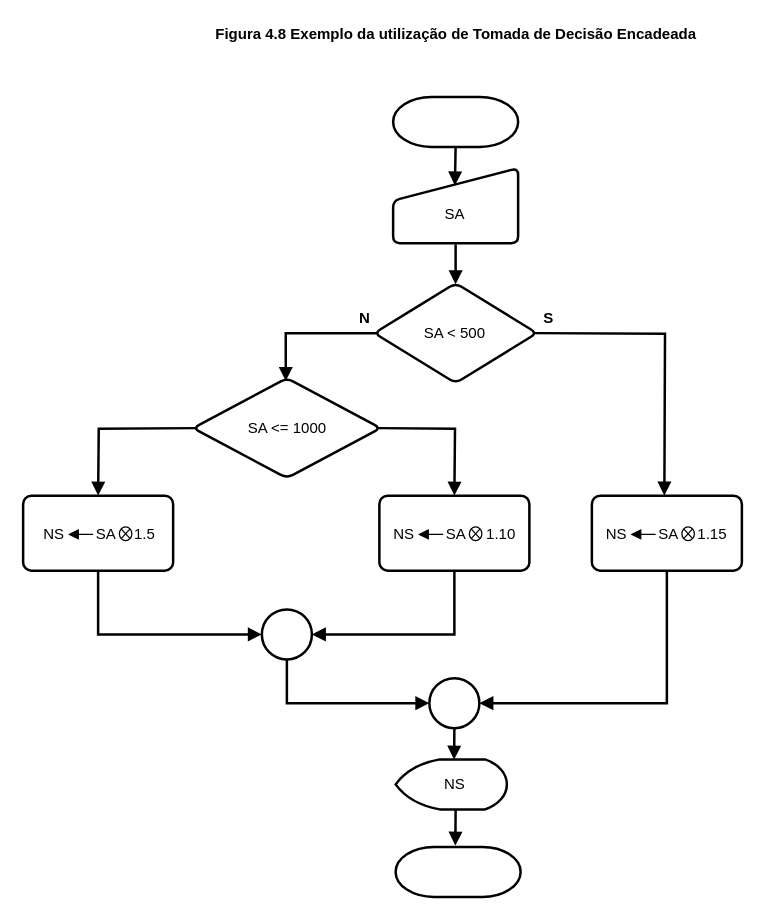
Some shapes in this 764 by 919 pixel diagram are drawn without their labels. The centre of each missing label's shape, as x and y in pixels:
Fim: [457,871]
Início: [455,121]
